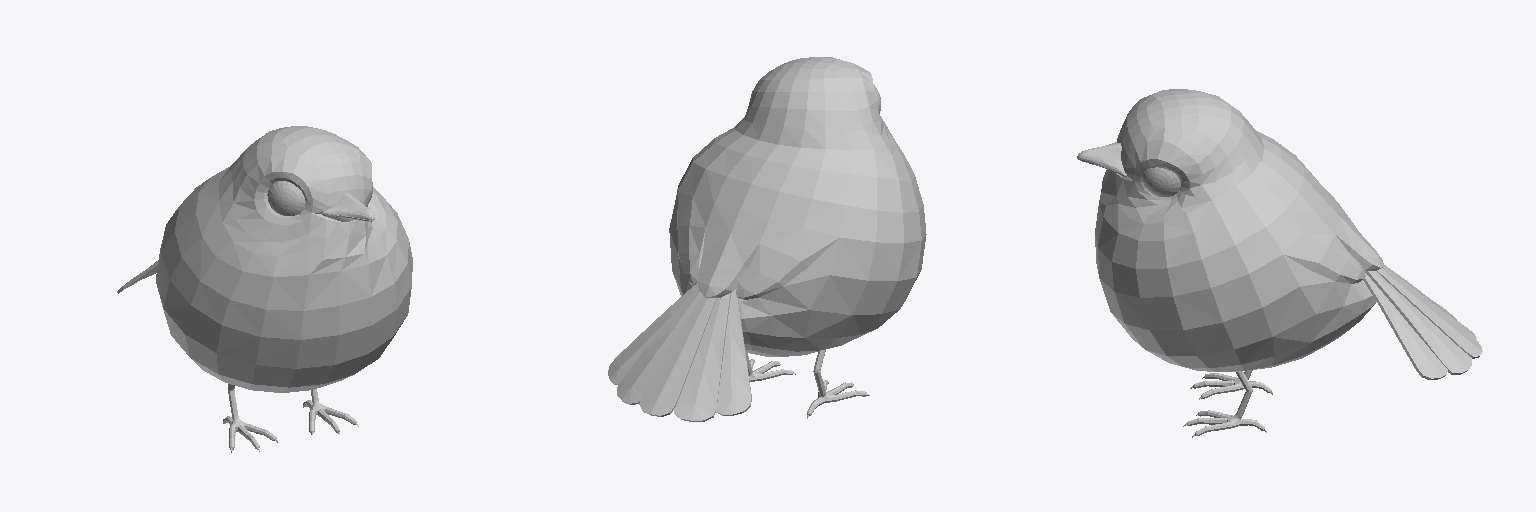
File: Bird_30.obj
The picture shows the model from 3 angles: view 1: azimuth 30°, elevation 25°; view 2: azimuth 150°, elevation 25°; view 3: azimuth 270°, elevation 25°; orthographic projection.
Visible parts, largest first — view 1: Object_51; view 2: Object_51; view 3: Object_51.
Part boxes in pixels (bbox=[...]): Object_51: bbox=[117, 126, 412, 452]; Object_51: bbox=[608, 57, 926, 421]; Object_51: bbox=[1077, 89, 1482, 437].
Bounding box in the file's own units: 0.418 × 0.5618 × 0.6584.